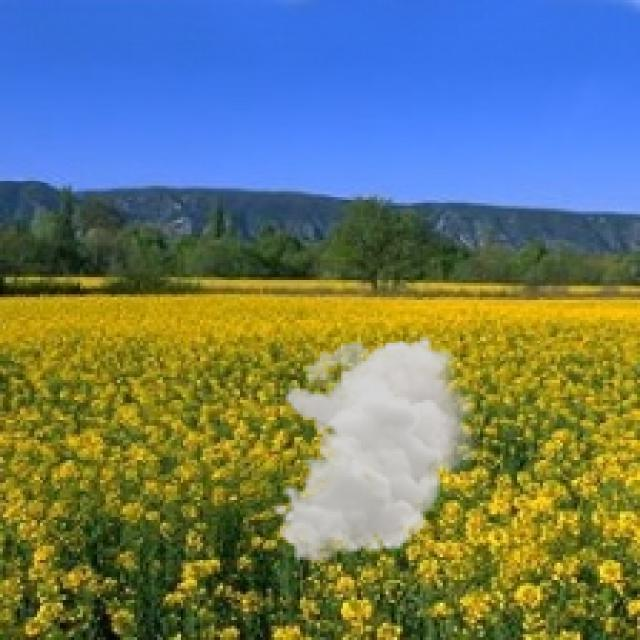smoke: (271, 334, 483, 563)
